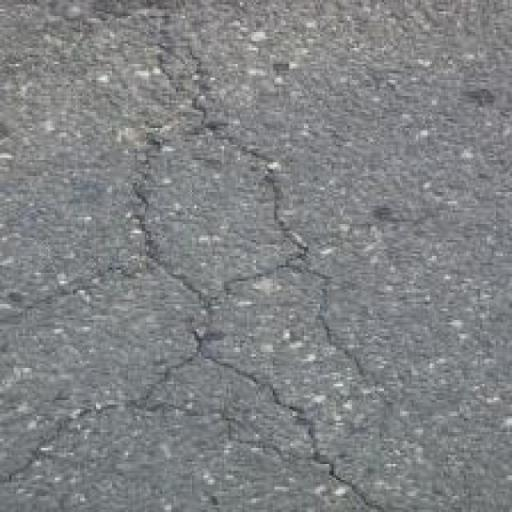moderate crack: (82, 35, 348, 512), (128, 125, 316, 294), (115, 355, 336, 480)
